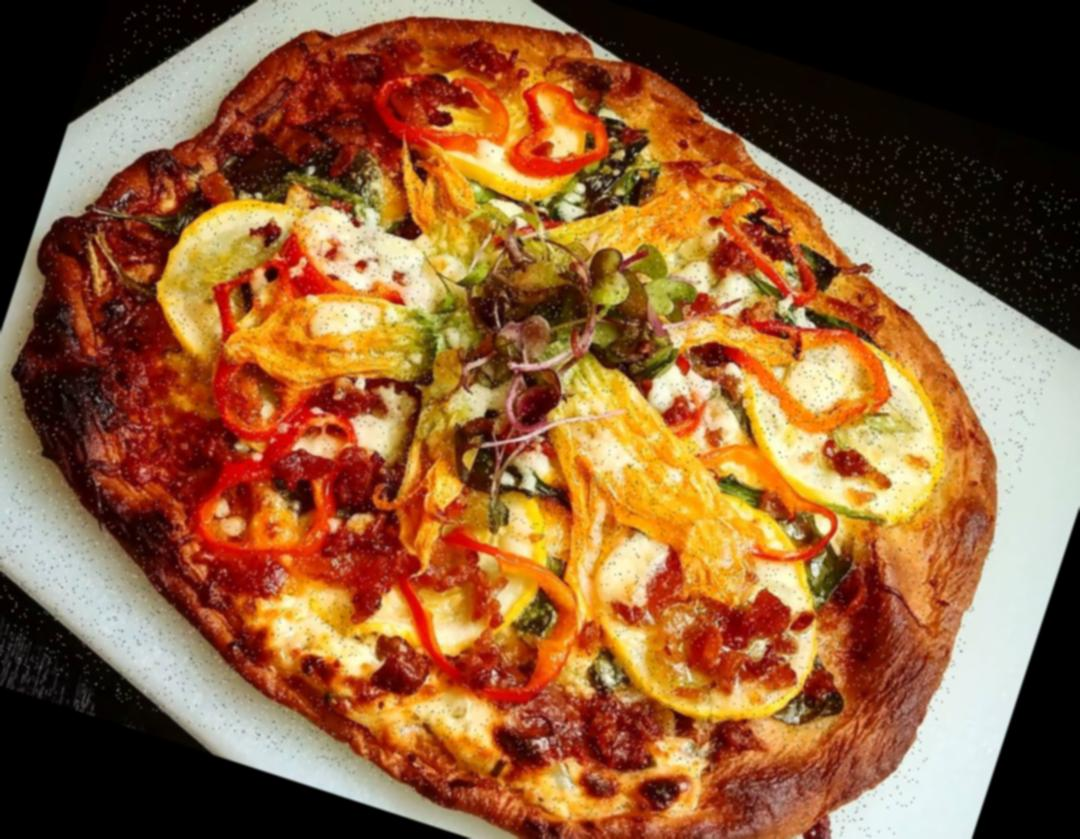Peppers: (356, 507, 602, 733), (668, 278, 914, 457), (184, 384, 374, 589), (174, 240, 350, 459), (671, 430, 859, 590), (356, 40, 526, 180), (264, 211, 439, 342), (700, 178, 847, 316), (494, 64, 630, 200)
Pizza: (0, 0, 1080, 839)
